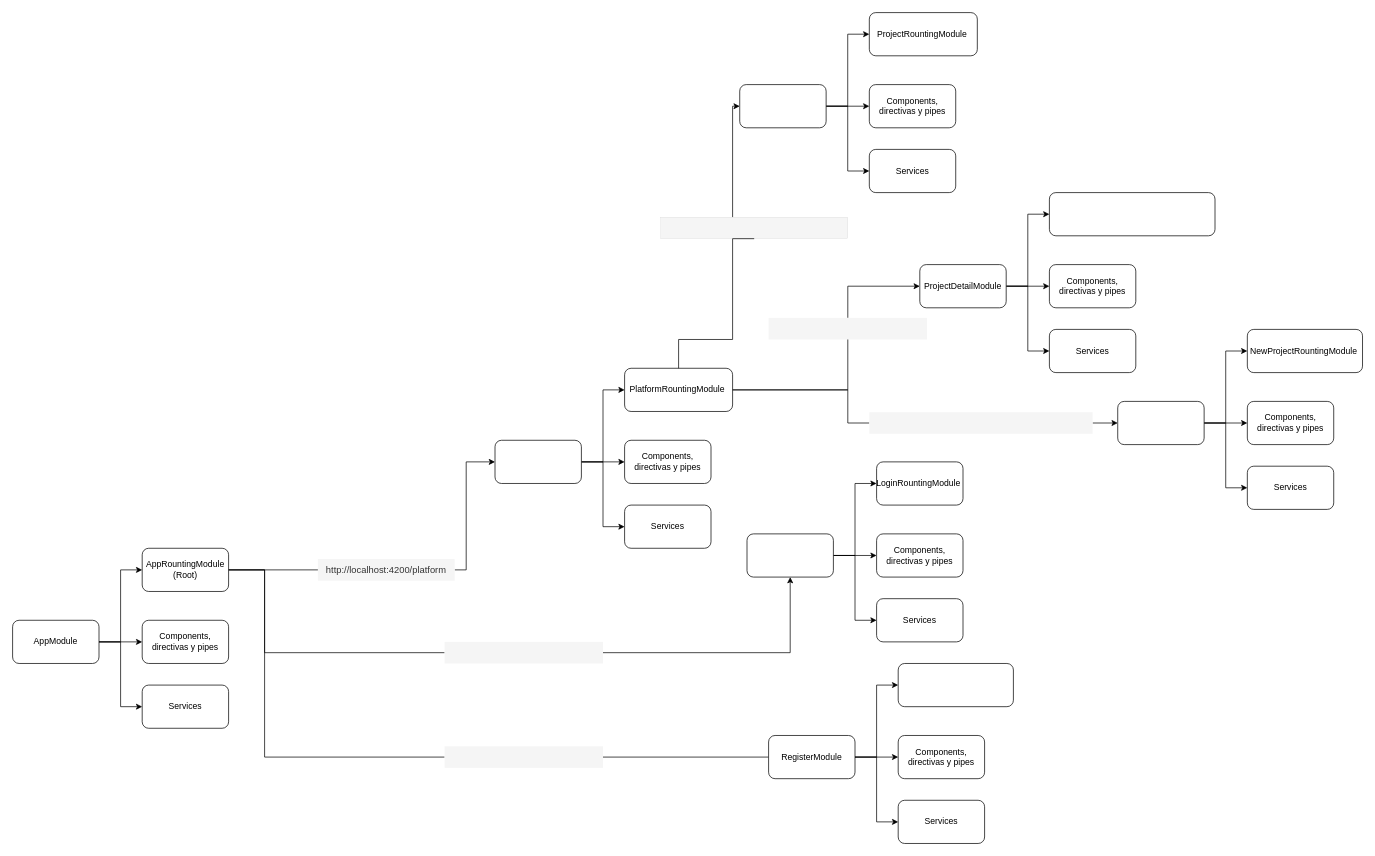
The diagram is 1375 pixels wide and 856 high, and some of its shapes have lost their labels. Each missing label, with the centre of its shape:
"http://localhost:4200/login" belongs at [523,652].
"http://localhost:4200/platform/project/new_project" belongs at [980,422].
"http://localhost:4200/platform/project:id" belongs at [847,328].
"http://localhost:4200/platform/projects" belongs at [753,227].
"http://localhost:4200/register" belongs at [523,757].
"LoginModule" belongs at [789,555].
"NewProject" belongs at [1160,423].
"PlatformModule" belongs at [537,461].
"ProjectDetailRountingModule" belongs at [1132,214].
"ProjectsModule" belongs at [782,106].
"RegisterRountingModule" belongs at [955,685].
